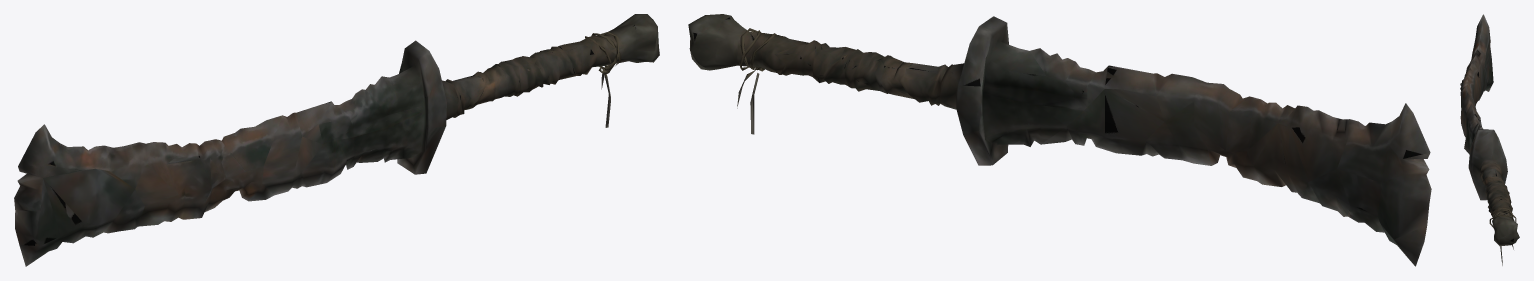
File: KolossEspada2.glb
3 renders of one model, left to right at view 1: azimuth 30°, elevation 25°; view 2: azimuth 150°, elevation 25°; view 3: azimuth 270°, elevation 25°, orthographic. The views are drawn at different scales.
Parts seen in each view (by area): view 1: KolossEspada2; view 2: KolossEspada2; view 3: KolossEspada2.
Part boxes in pixels (left/top/right/bottom): KolossEspada2: left=14, top=14, right=659, bottom=266; KolossEspada2: left=688, top=14, right=1431, bottom=266; KolossEspada2: left=1460, top=14, right=1519, bottom=265.
Size of the model in its own units: 2.6 by 0.5973 by 0.3582.
1 material, 1 textured.
